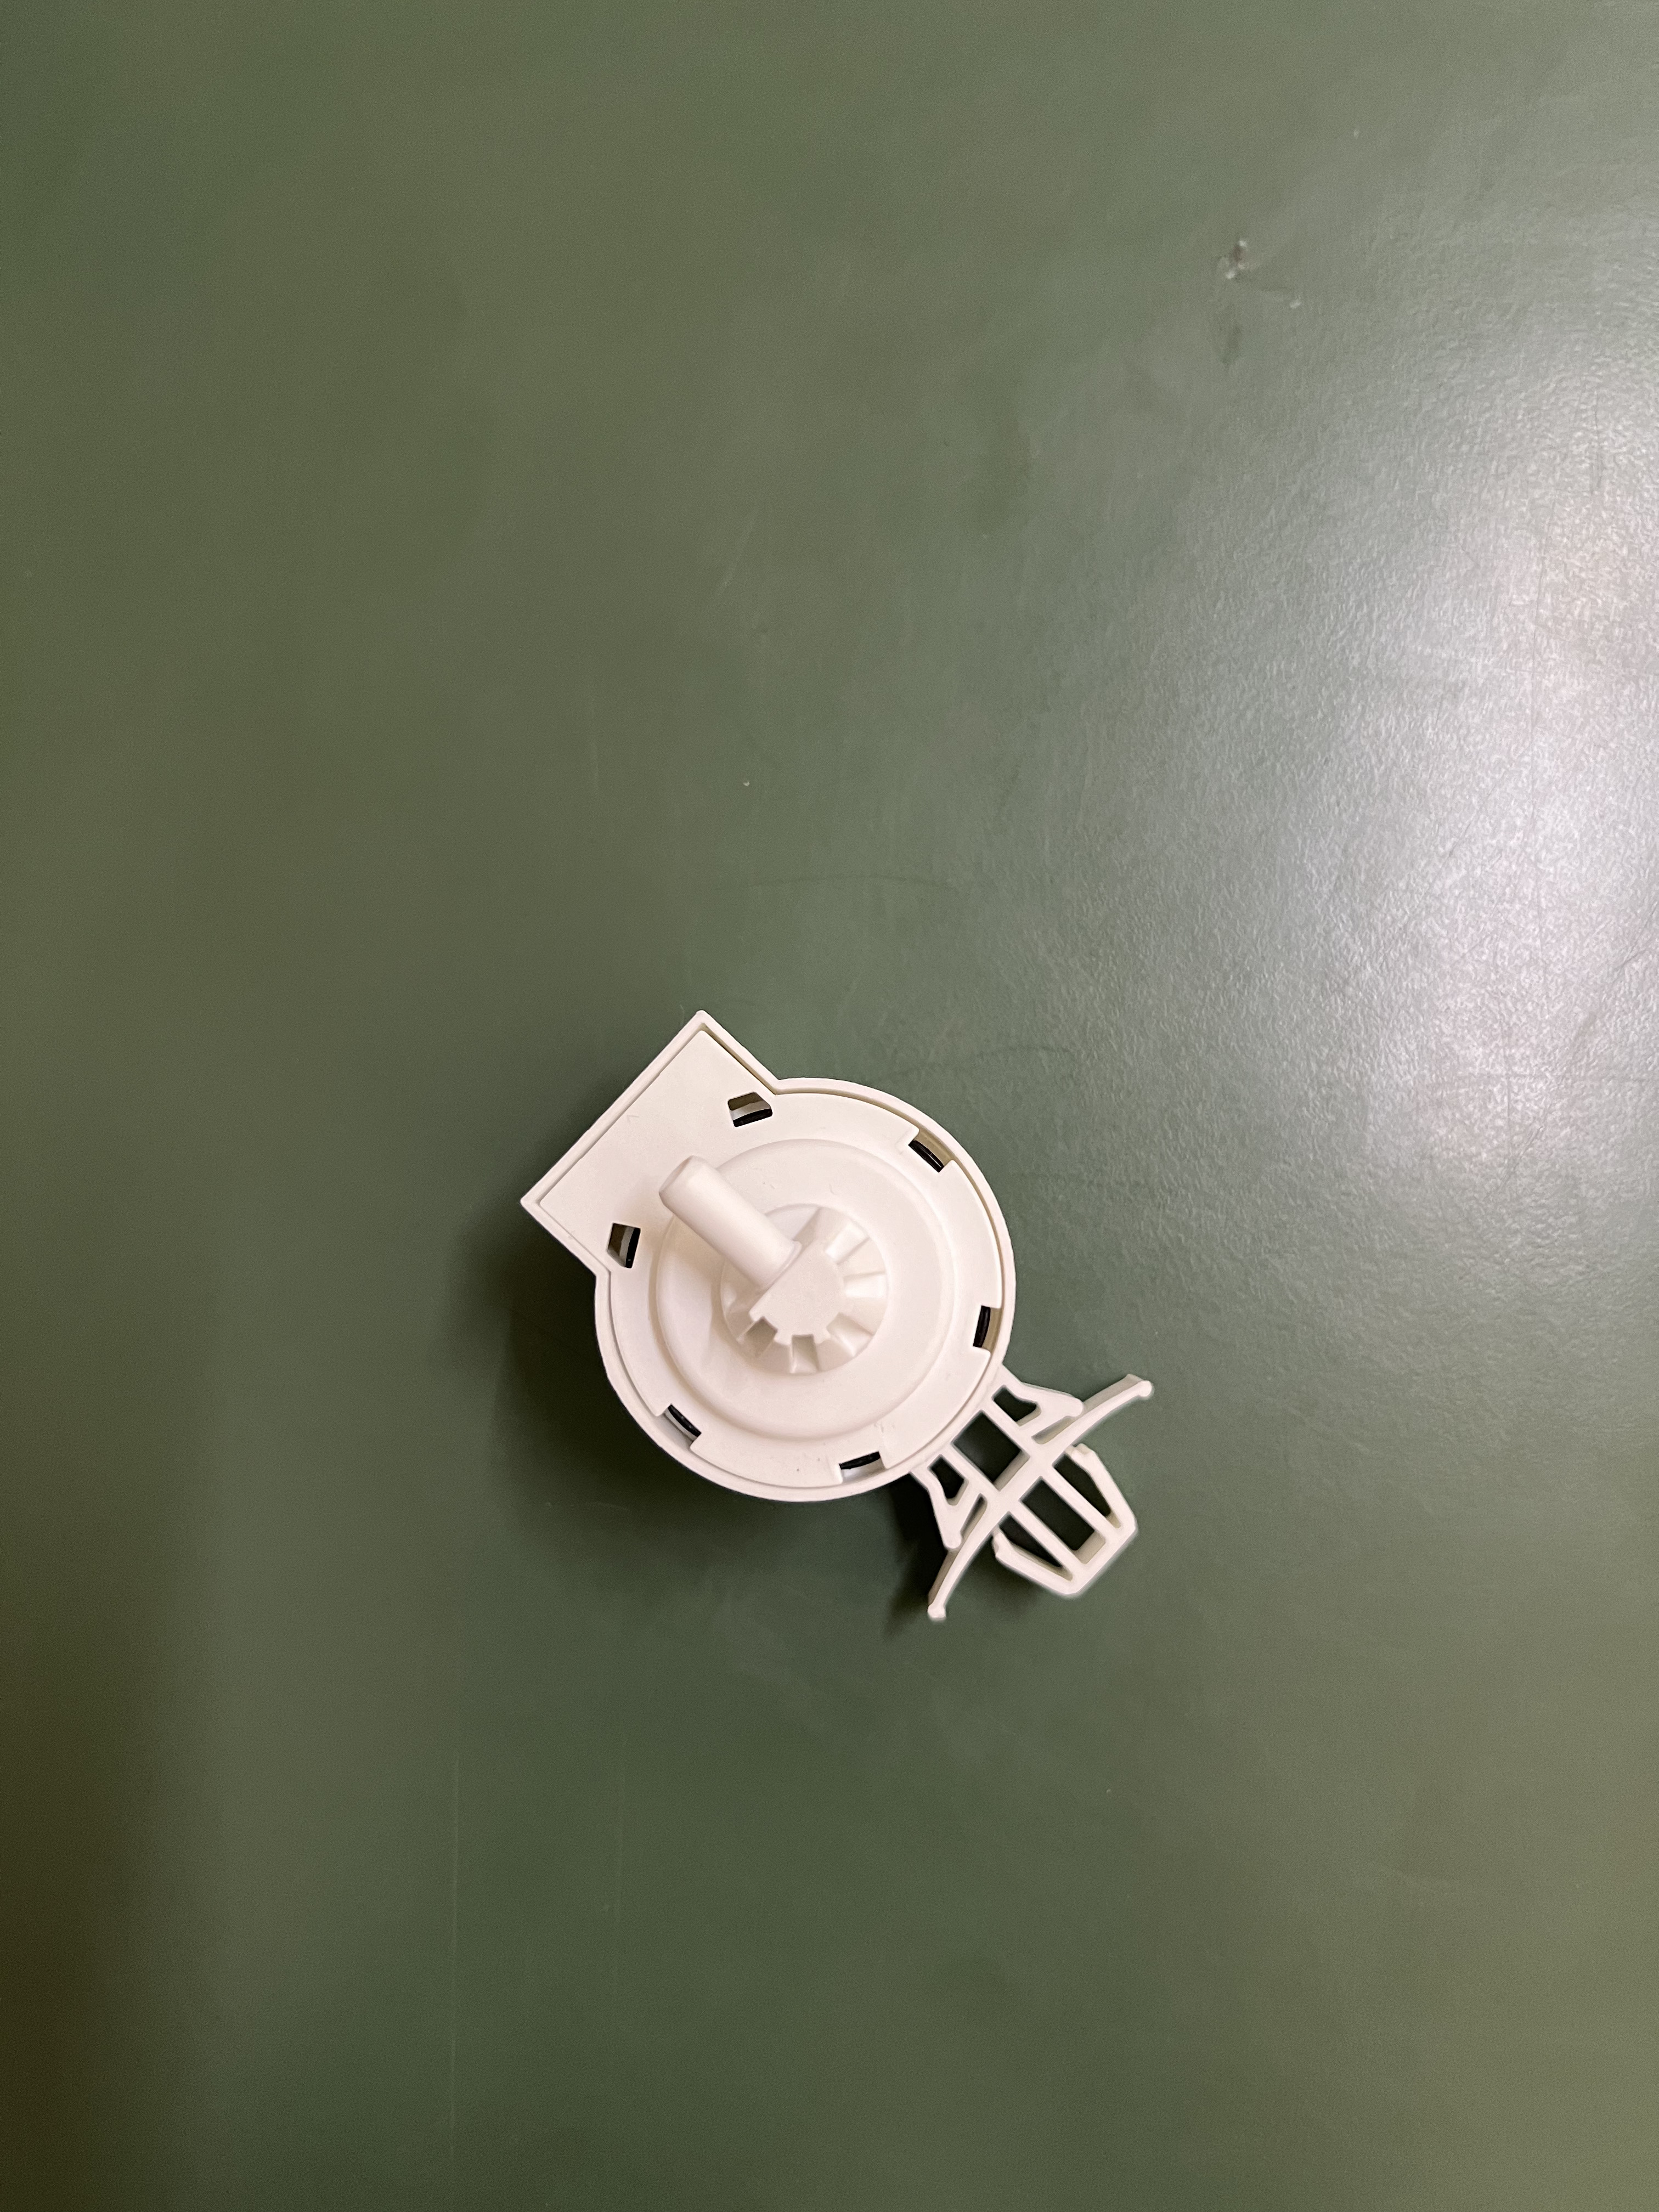pressure_switch_1: (493, 1005, 1159, 1716)
